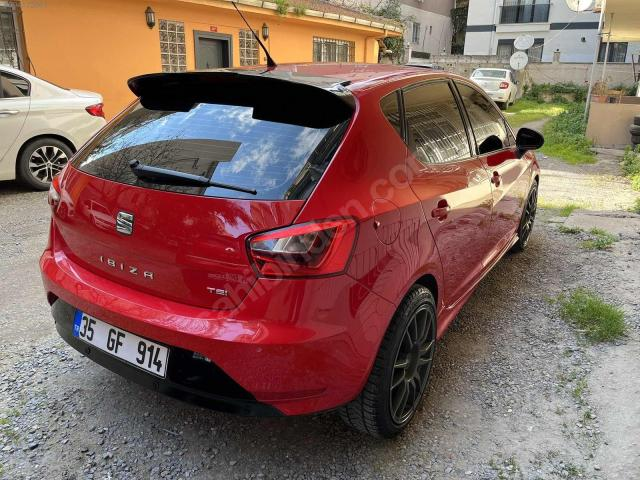plaka: (73, 310, 169, 378)
